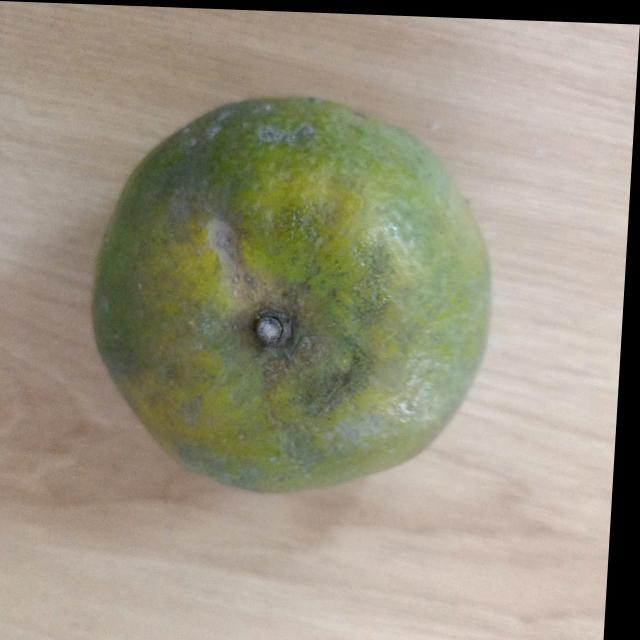Cam: (88, 87, 507, 500)
